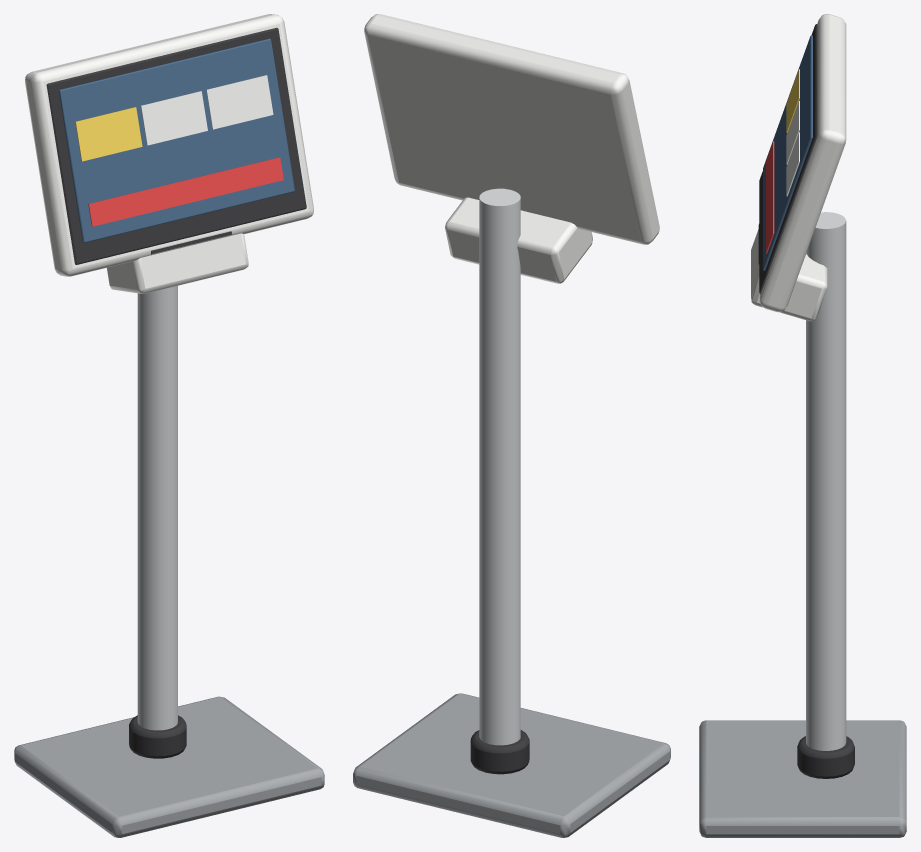
The model's file is OrderTerminal.fbx.
3 views of the same model, side by side, from view 1: azimuth 30°, elevation 25°; view 2: azimuth 150°, elevation 25°; view 3: azimuth 270°, elevation 25° (orthographic). The views are drawn at different scales.
Parts seen in each view (by area): view 1: OrderTerminal; view 2: OrderTerminal; view 3: OrderTerminal.
Part boxes in pixels (x1=…): OrderTerminal: x1=14, y1=14, x2=324, y2=837; OrderTerminal: x1=353, y1=14, x2=670, y2=837; OrderTerminal: x1=699, y1=14, x2=906, y2=837.
Size of the model in its own units: 0.5 by 1.37 by 0.36.
